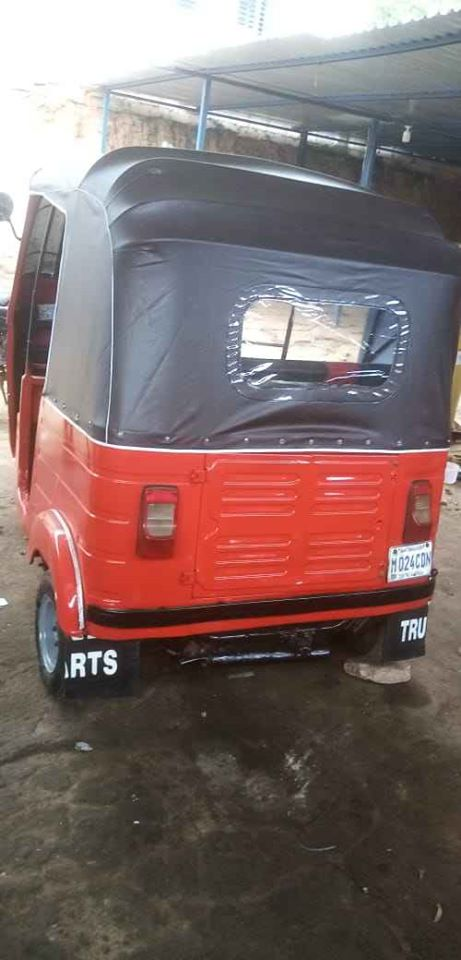mototaxi: (6, 145, 461, 698)
